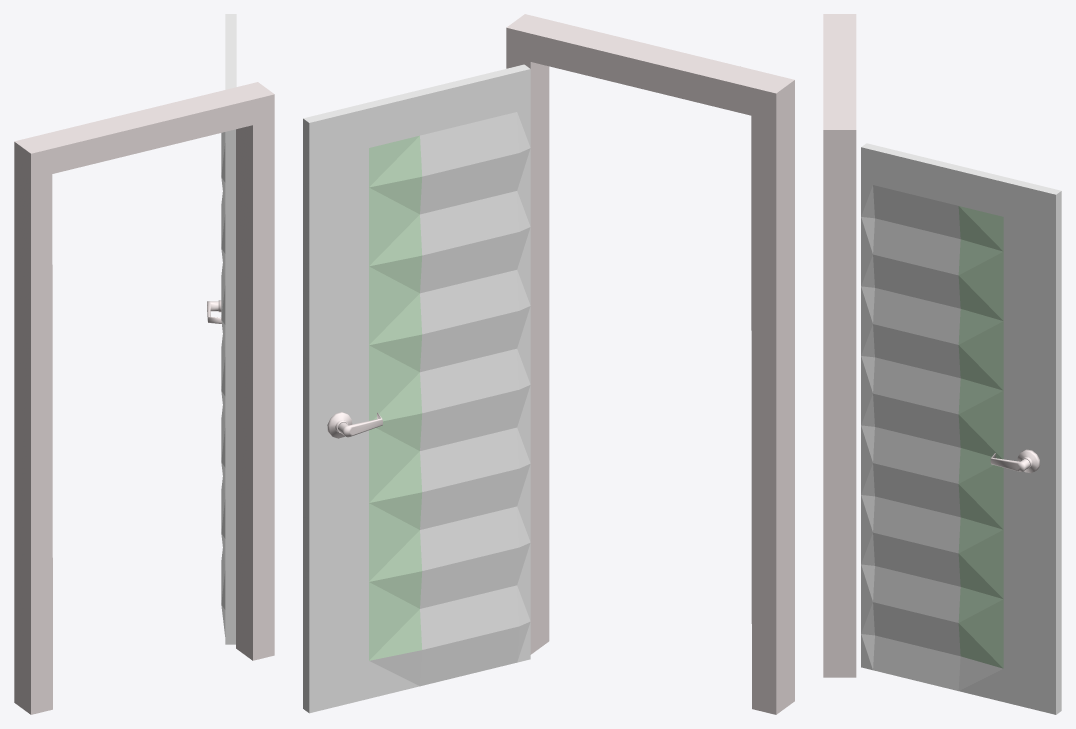
File: bathroom_door_32_open.dae
3 views of the same model, side by side, from view 1: azimuth 30°, elevation 25°; view 2: azimuth 150°, elevation 25°; view 3: azimuth 270°, elevation 25° (orthographic). The views are drawn at different scales.
Visible parts, largest first — view 1: Frame, Door; view 2: Door, Frame, Handle_Back.001; view 3: Door, Frame, Handle_Front.001.
Part boxes in pixels (<box>): Frame: <box>14,82,274,714</box>; Door: <box>221,14,236,644</box>; Door: <box>303,64,530,713</box>; Frame: <box>506,14,794,714</box>; Handle_Back.001: <box>327,412,382,438</box>; Door: <box>861,143,1061,714</box>; Frame: <box>823,14,856,677</box>; Handle_Front.001: <box>990,449,1040,473</box>.
Size of the model in its own units: 1.35 by 0.8677 by 2.2.
